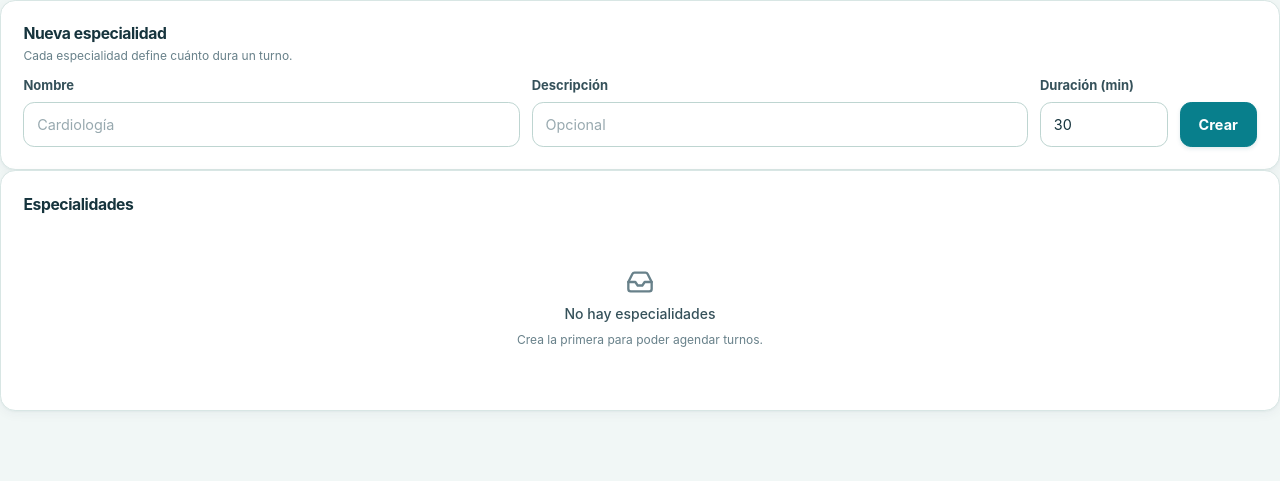
Test: Admin — nueva especialidad › rechaza nombre corto y duración que no es múltiplo de 5
Type "ab" into the field labelled "Nombre" at (272, 125), box 23,102 -> 520,147
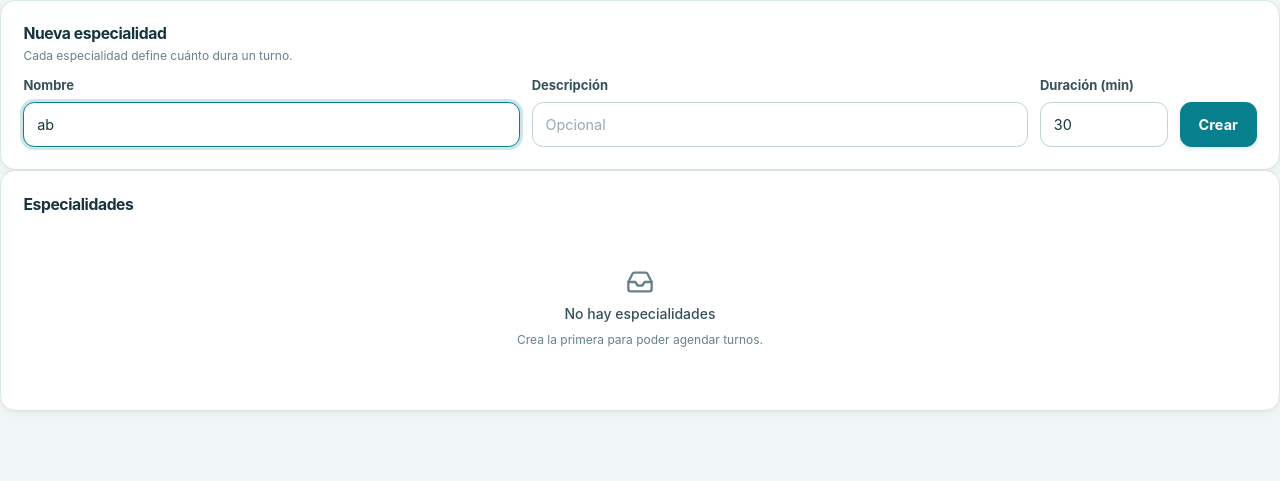
Replace the text in the number field labelled "Duración (min)" with "33" at (1104, 125), box 1040,102 -> 1168,147
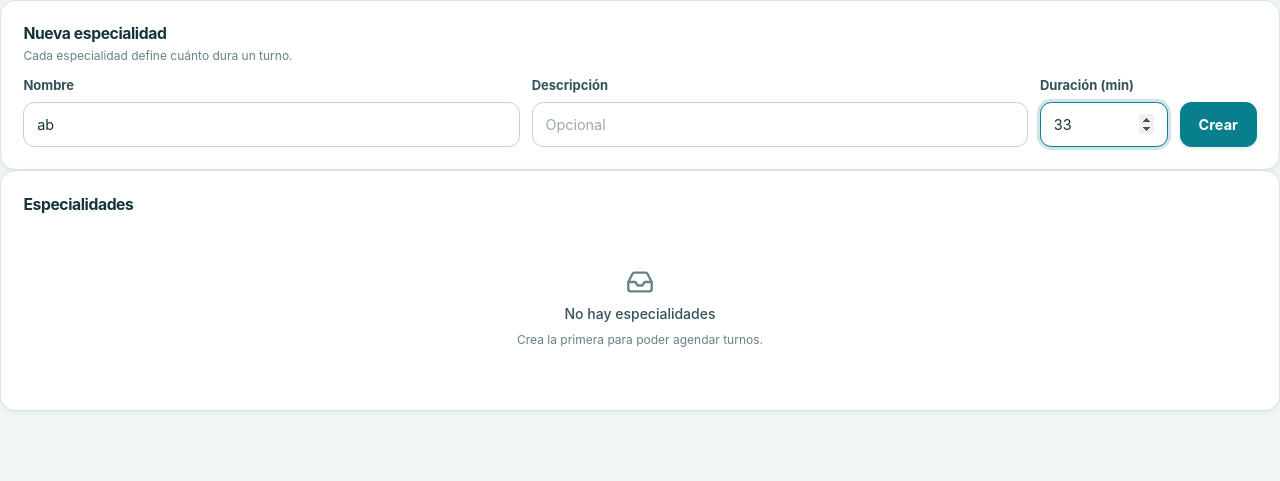
Click the button "Crear" at (1218, 124), box 1180,102 -> 1257,147
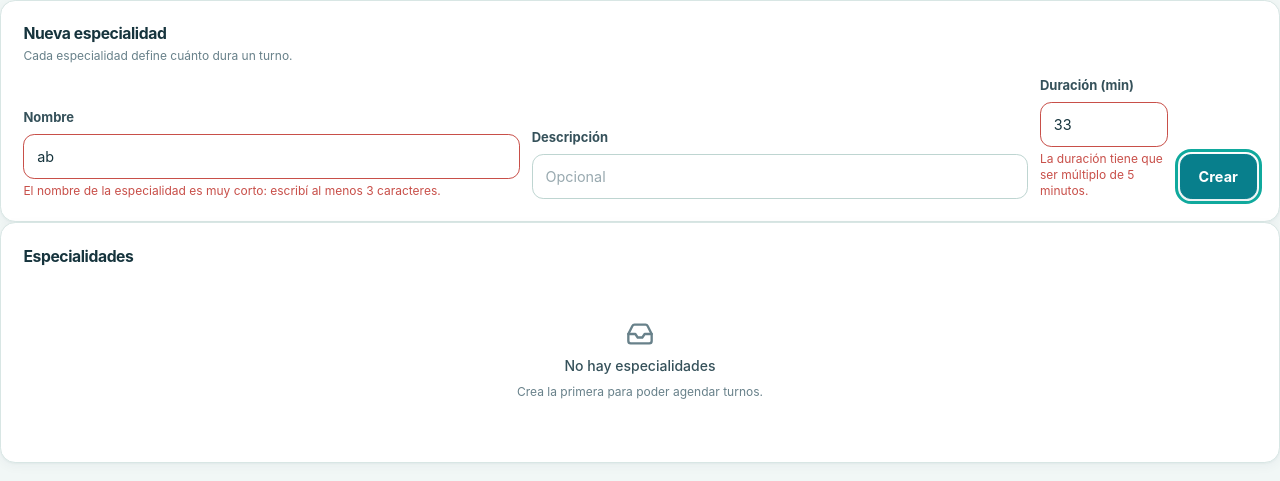
Now the text "al menos 3 caracteres" is shown, box 23,183 -> 441,198
Now the text "La duración tiene que ser múltiplo de 5 minutos." is shown, box 1040,151 -> 1168,199
